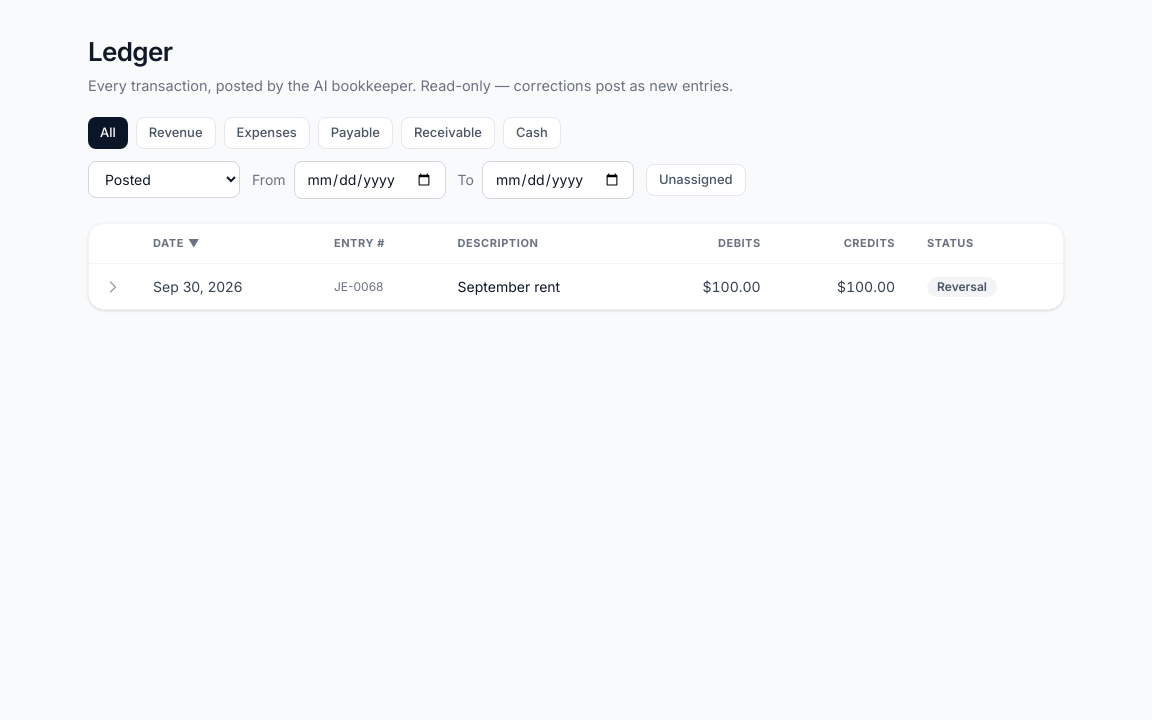
Scenario: owner ledger — Assign on the live entry only (D-S85-13) › offers no Assign on an unattributed reversal entry; it shows its link and its chain
The image size is (1152, 720).
Click the text "JE-0068" at (380, 287), box [318,264,442,310]
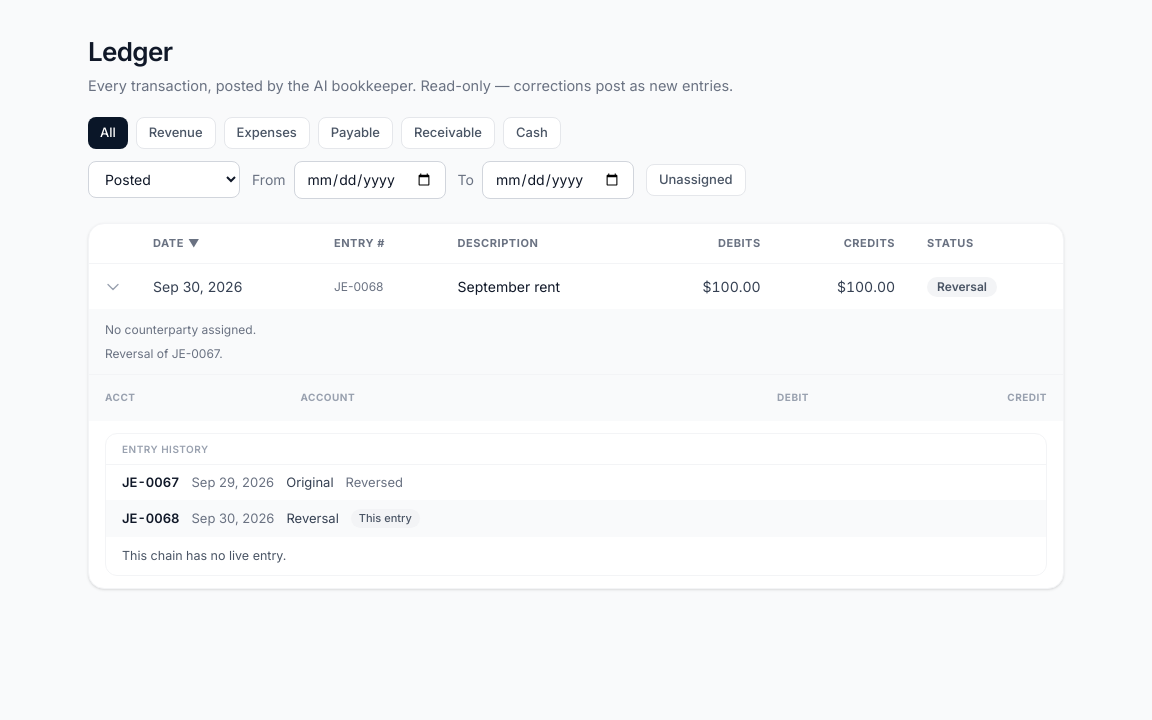
Expected: the element "Entry history" is shown, [105,433,1047,576]
Expected: the text "Reversal of JE-0067." is shown, [105,346,223,362]
